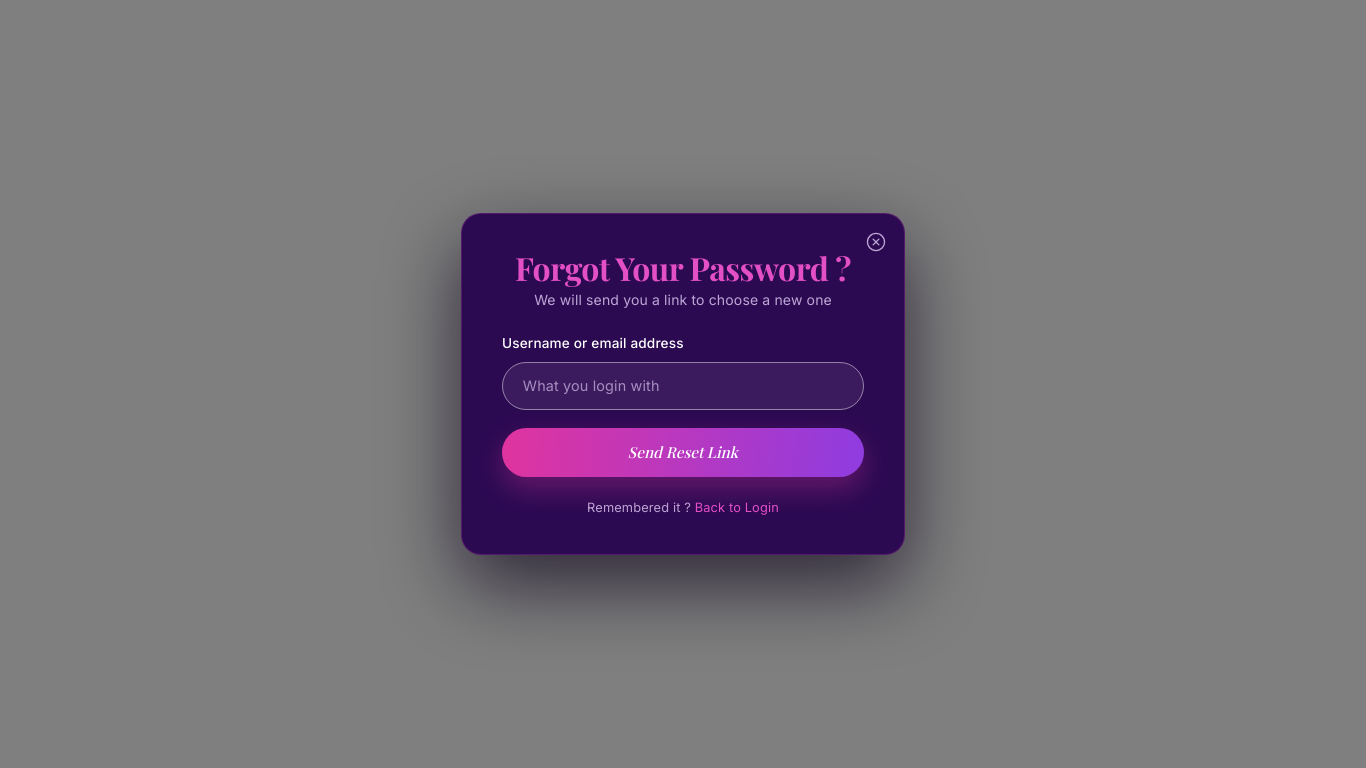
Scenario: asking for a link › clears that sentence as soon as the box is being filled
Click the button "Send Reset Link" at (683, 452), box x1=502 y1=428 x2=864 y2=477
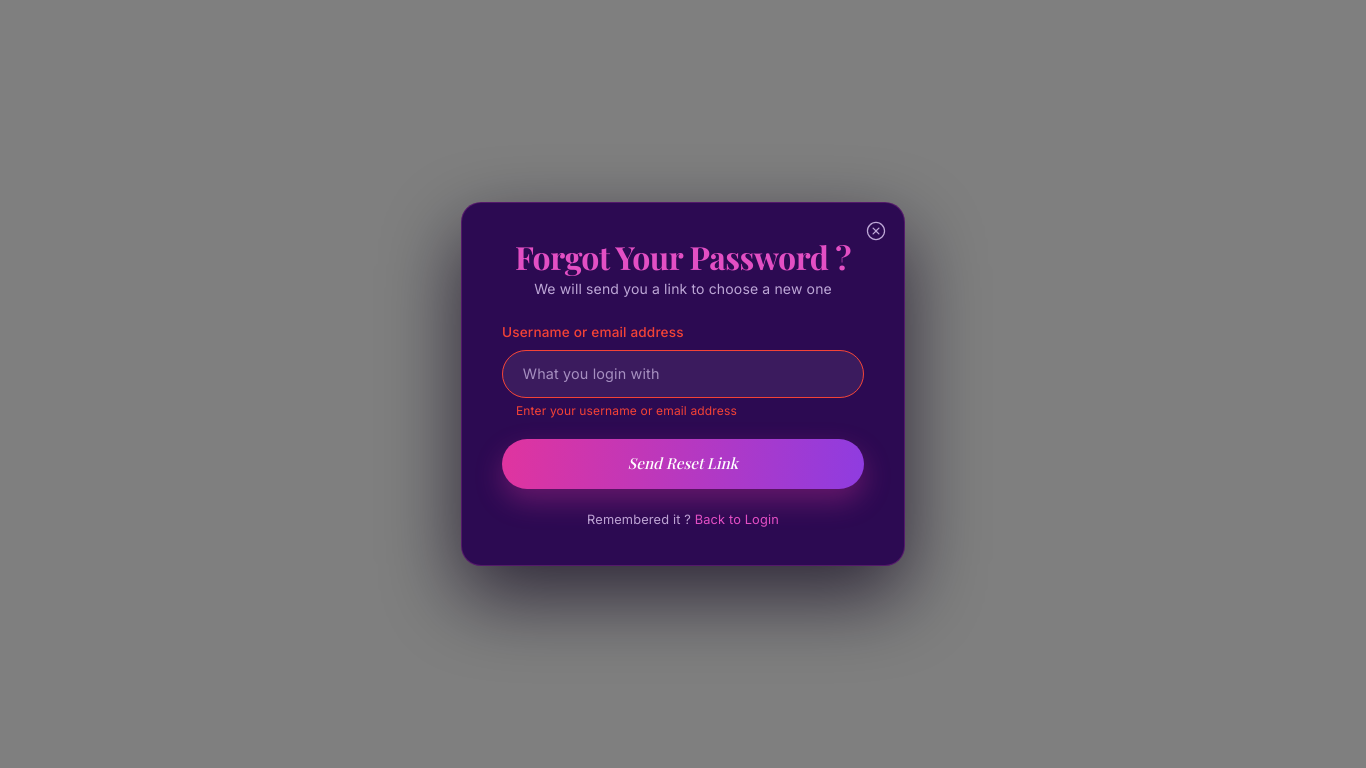
Type "m" into the field labelled "Username or email address" at (683, 374), box x1=502 y1=350 x2=864 y2=398
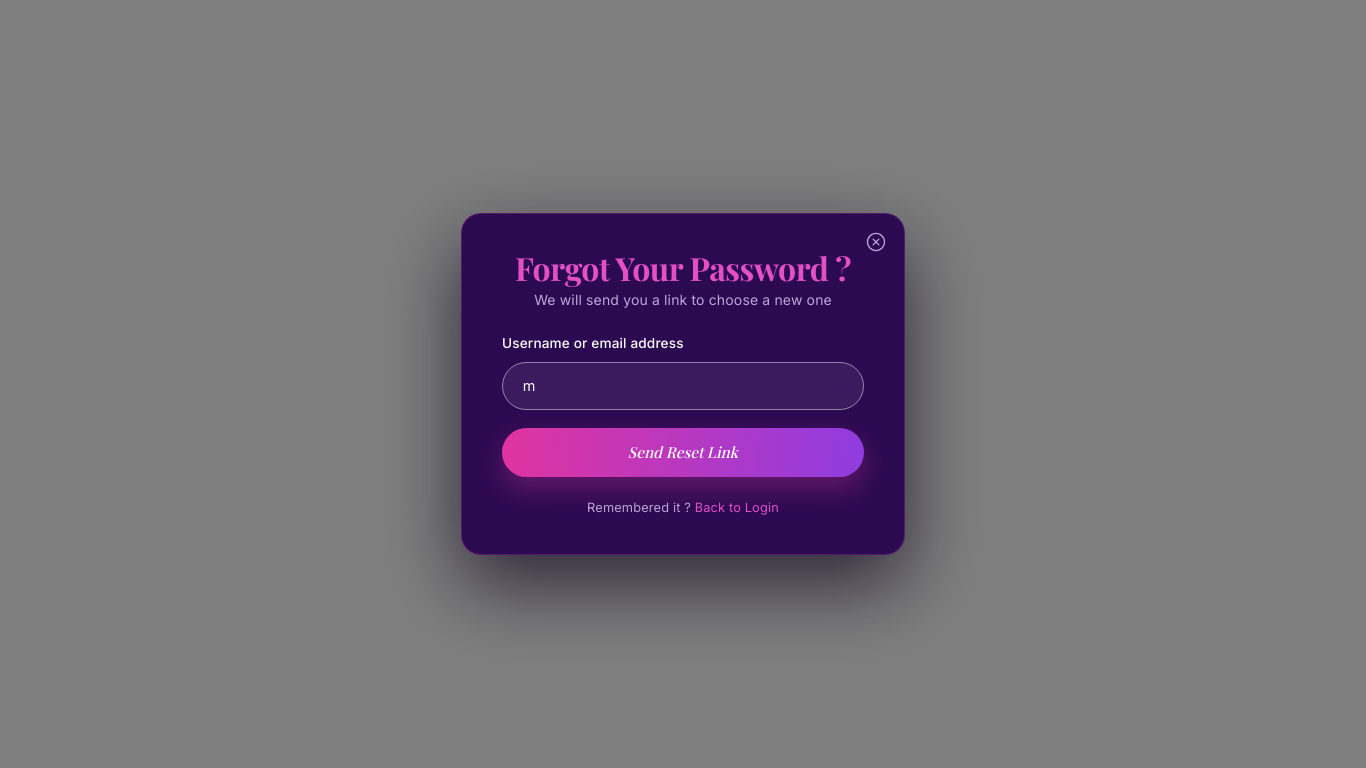
Now the text "Enter your username or email address" is gone
